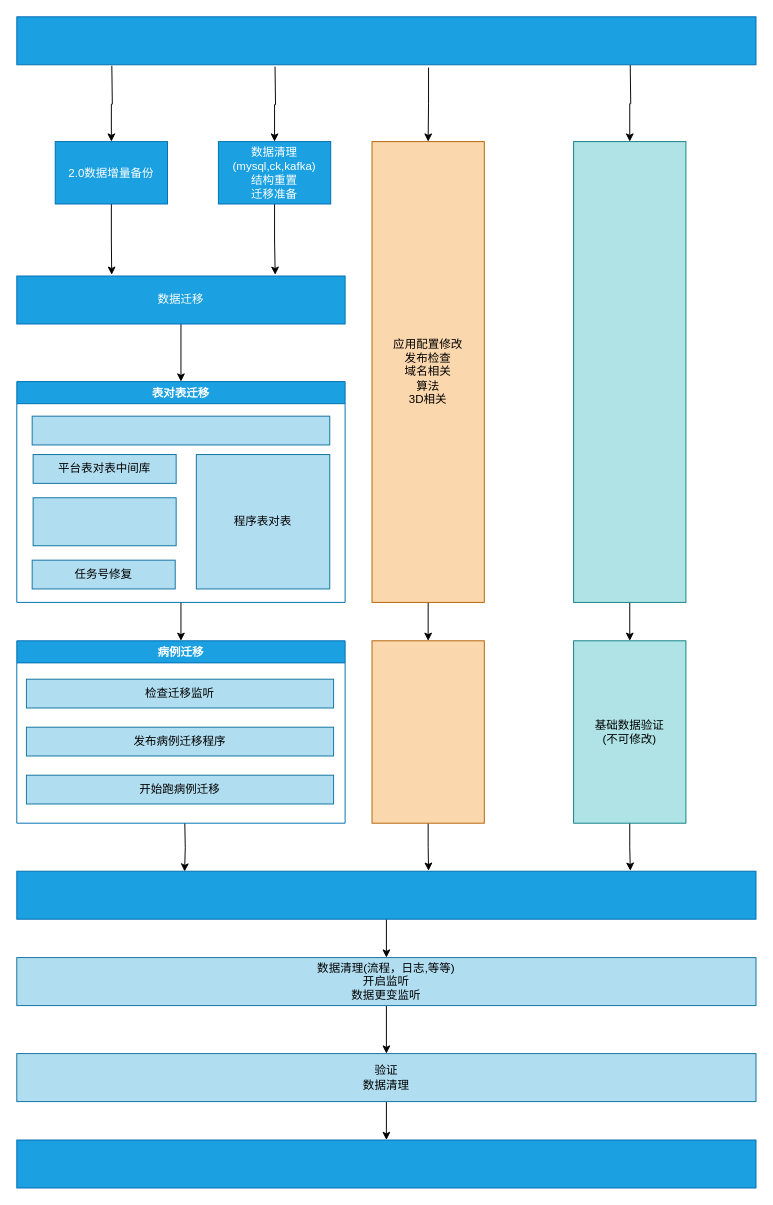
Image size: 773x1205. Some labels were removed from this diagram. The centre of each missing label's shape, as x and y in pixels:
"业务准备" goes at (x=629, y=371).
"停服" goes at (x=386, y=40).
"基础配置表" goes at (x=180, y=430).
"完成准备" goes at (x=386, y=894).
"开服" goes at (x=386, y=1163).
"检查迁移监听 平台表对表恢复生产库" goes at (x=104, y=521).
"监控服务状态 保证网络流畅 迁移程序健康" goes at (x=427, y=731).
